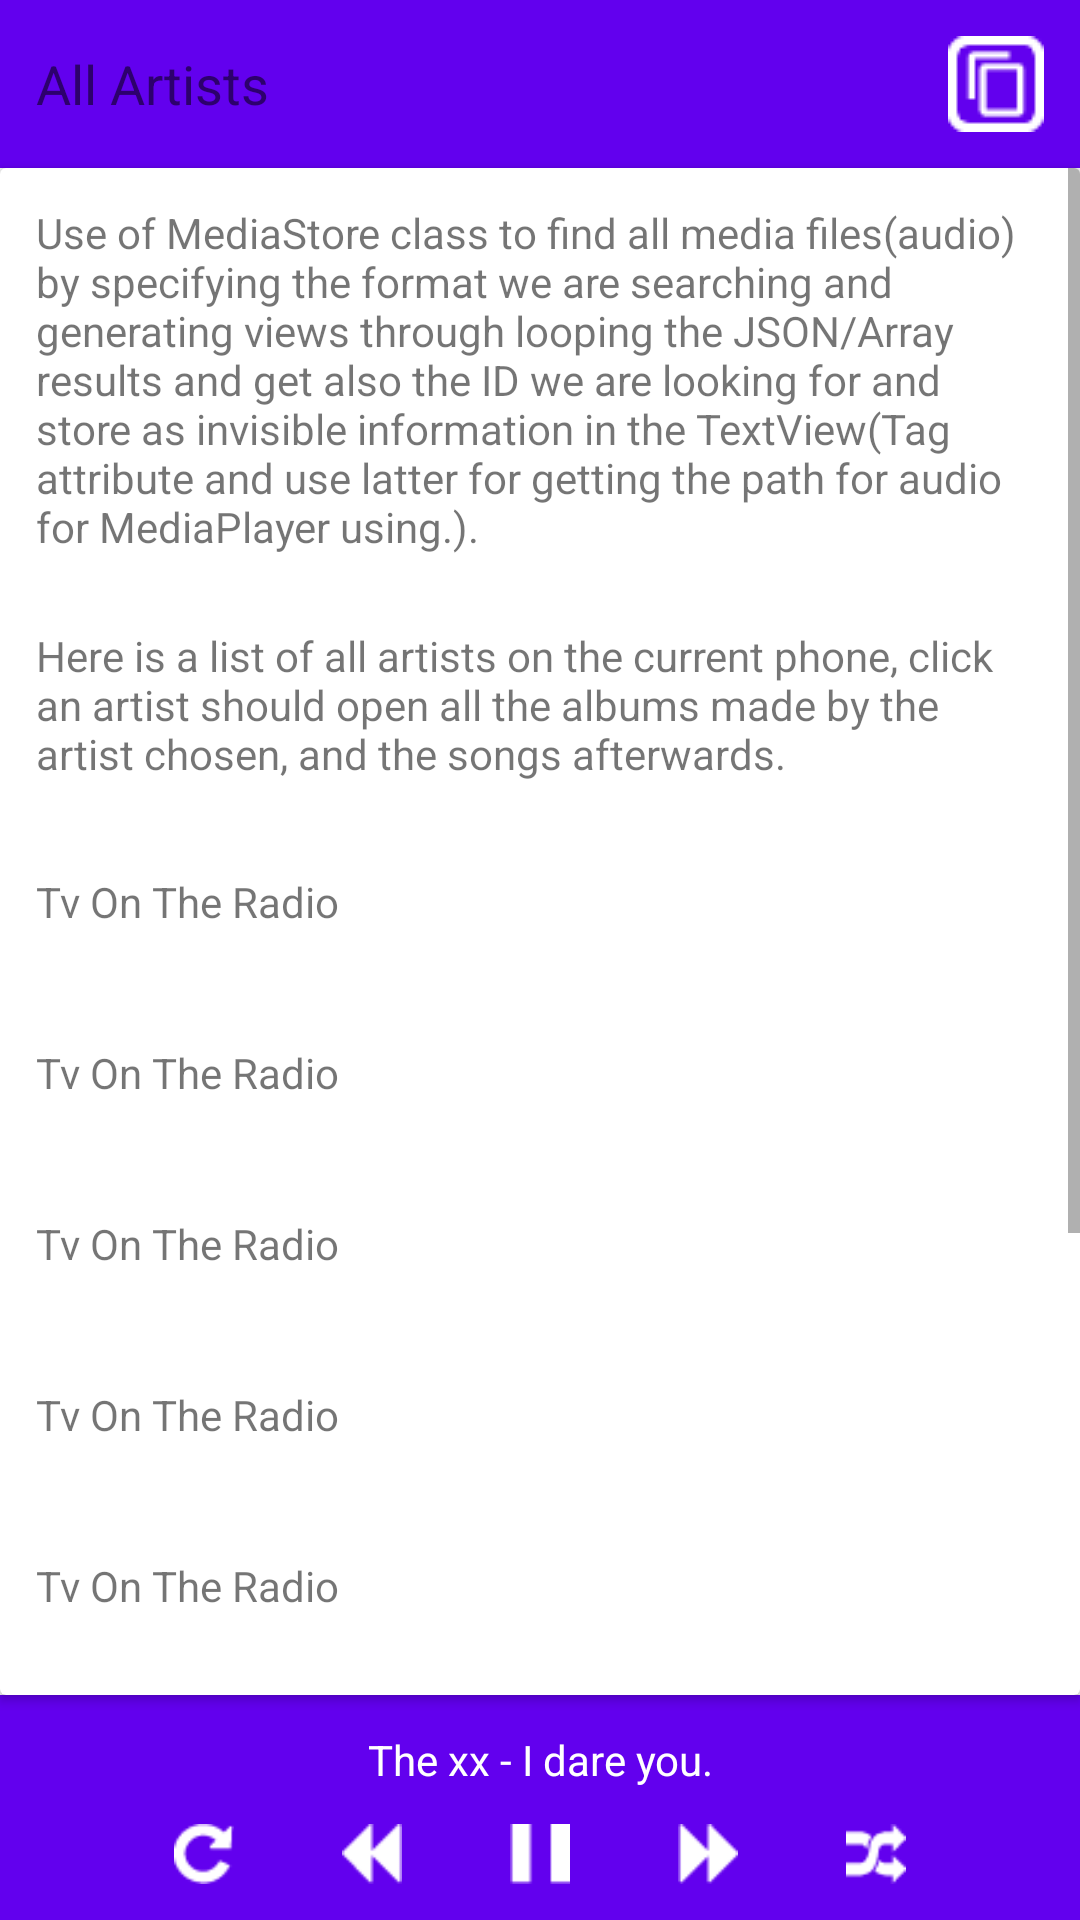

Icon click points for this 1080 x 1920 phone screenshot, format [x,y]:
backward: [372,1854]
forward: [708,1854]
pause: [540,1854]
repeat: [204,1854]
shuffle: [876,1854]
